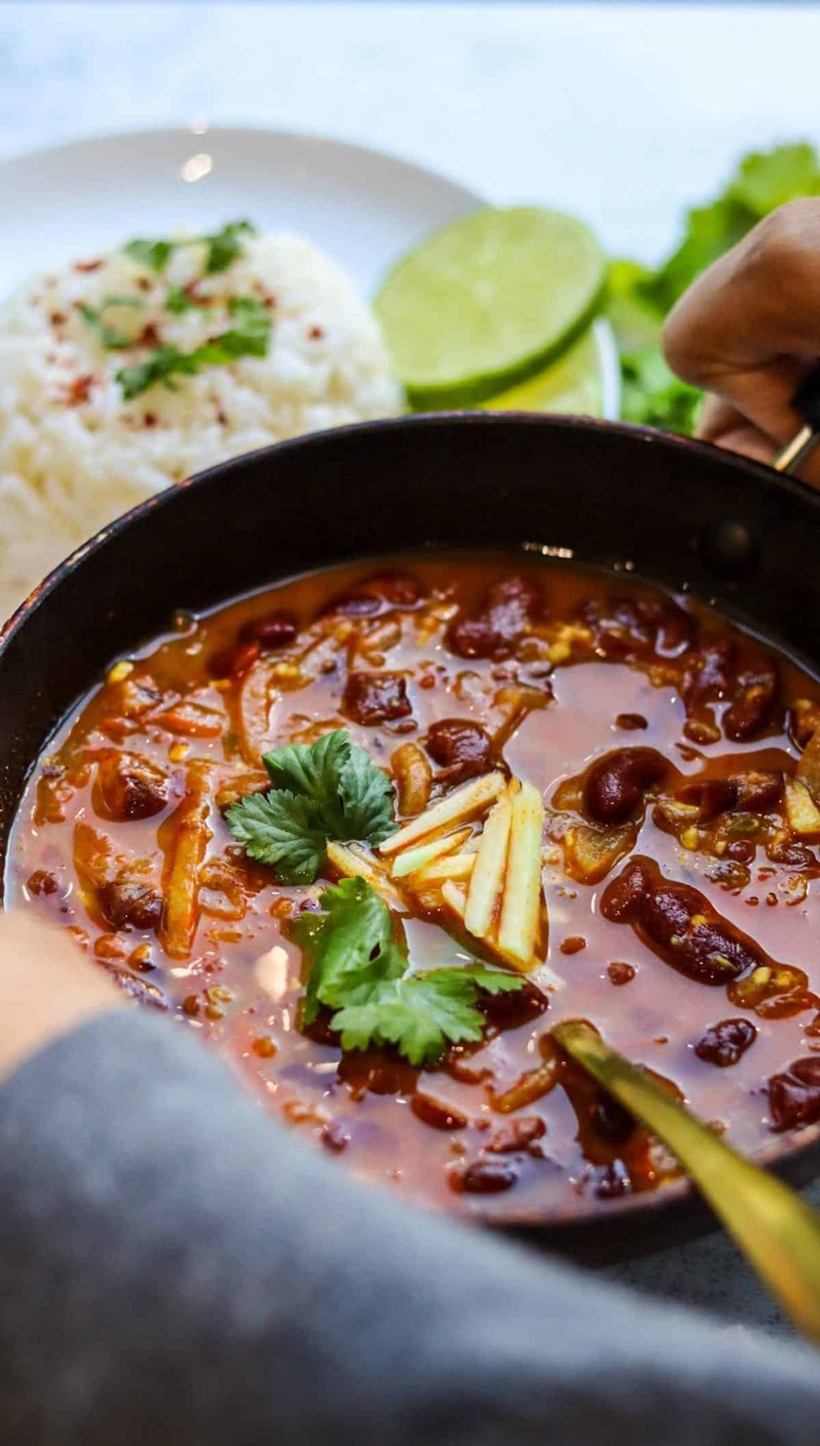rajma: (88, 550, 820, 1127)
